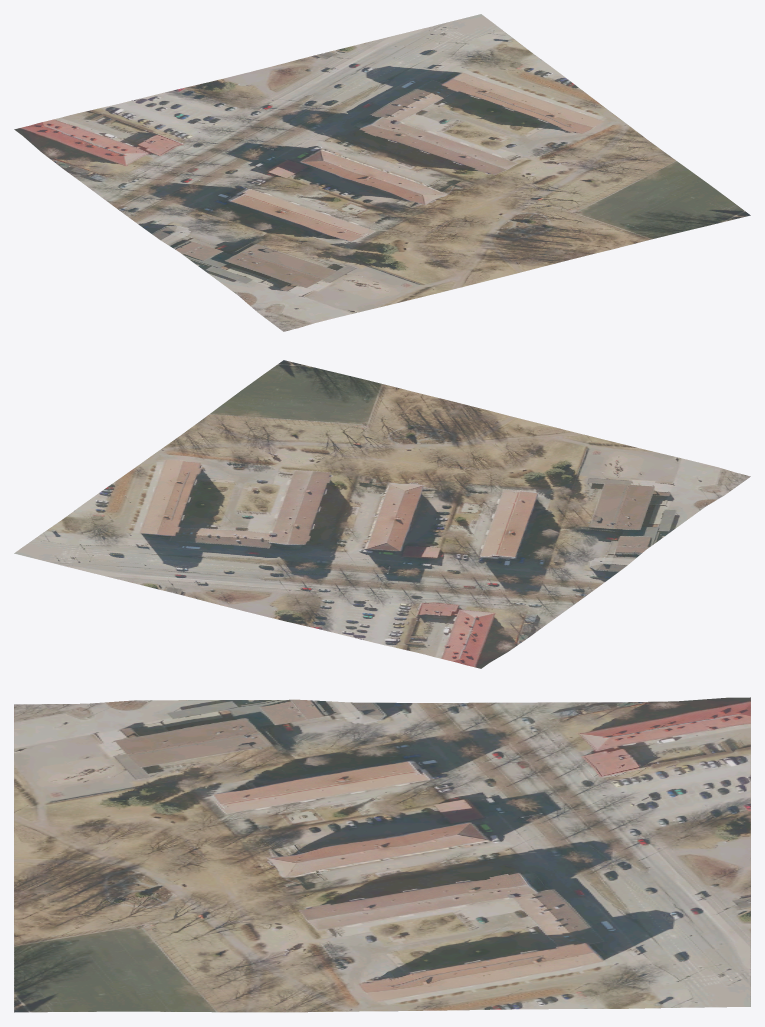
File: CM_Terrain_24489230_6821227.fbx
The picture shows the model from 3 angles, top to bottom: view 1: azimuth 30°, elevation 25°; view 2: azimuth 150°, elevation 25°; view 3: azimuth 270°, elevation 25°; orthographic projection. The views are drawn at different scales.
Visible parts, largest first — view 1: CM_Terrain_24489230_6821227_LOD0; view 2: CM_Terrain_24489230_6821227_LOD0; view 3: CM_Terrain_24489230_6821227_LOD0.
Part boxes in pixels (x1,y1,x2,y2): CM_Terrain_24489230_6821227_LOD0: [14, 14, 750, 331]; CM_Terrain_24489230_6821227_LOD0: [14, 360, 750, 668]; CM_Terrain_24489230_6821227_LOD0: [14, 697, 750, 1012].
Size of what is drawn, in the model's own units: 205 by 2.72 by 205.
